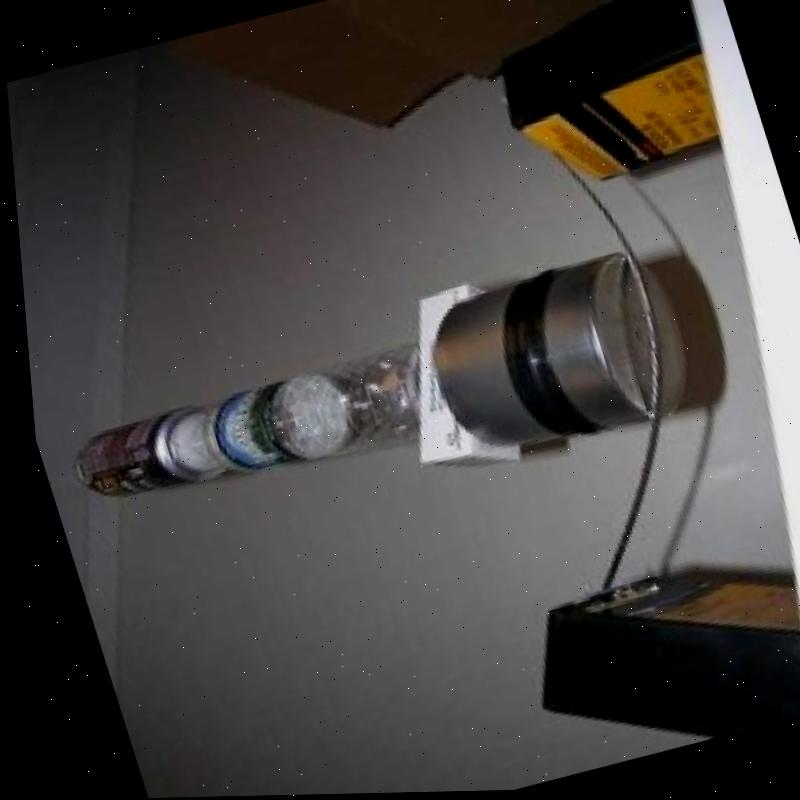botella: (184, 344, 438, 487)
